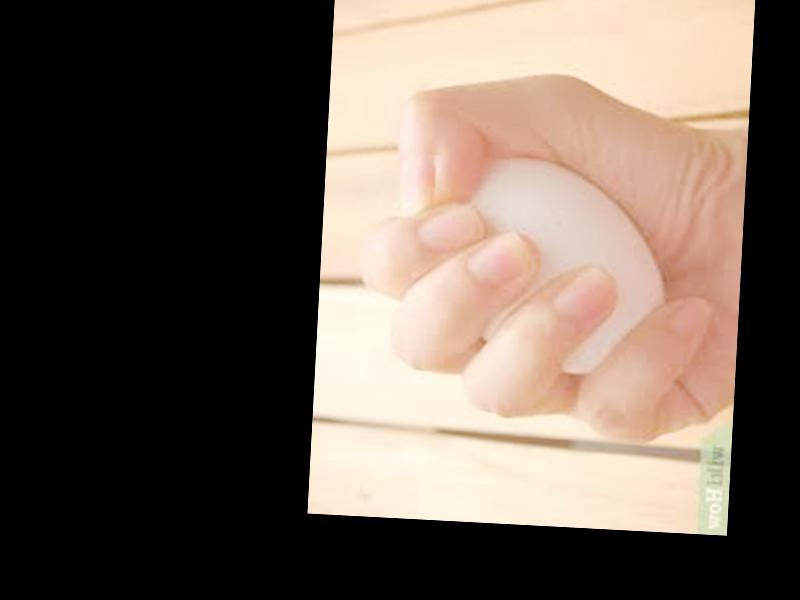Eggs: (462, 153, 671, 379)
